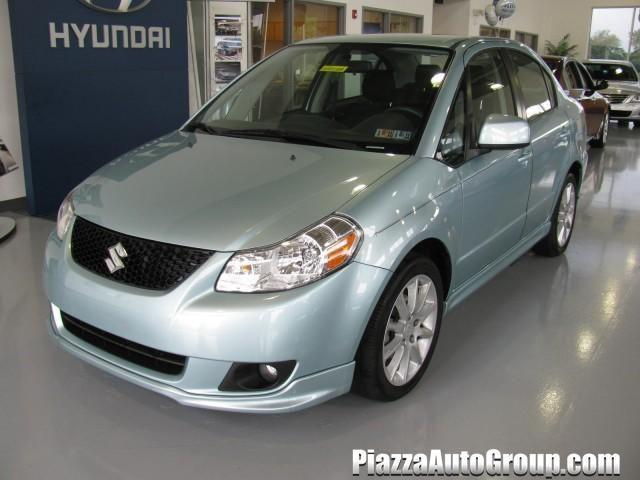Car: (17, 18, 610, 429)
